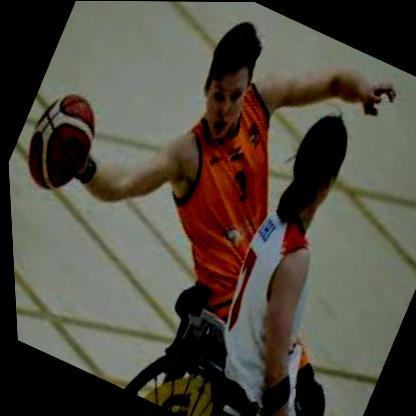basketball: (7, 82, 110, 202)
